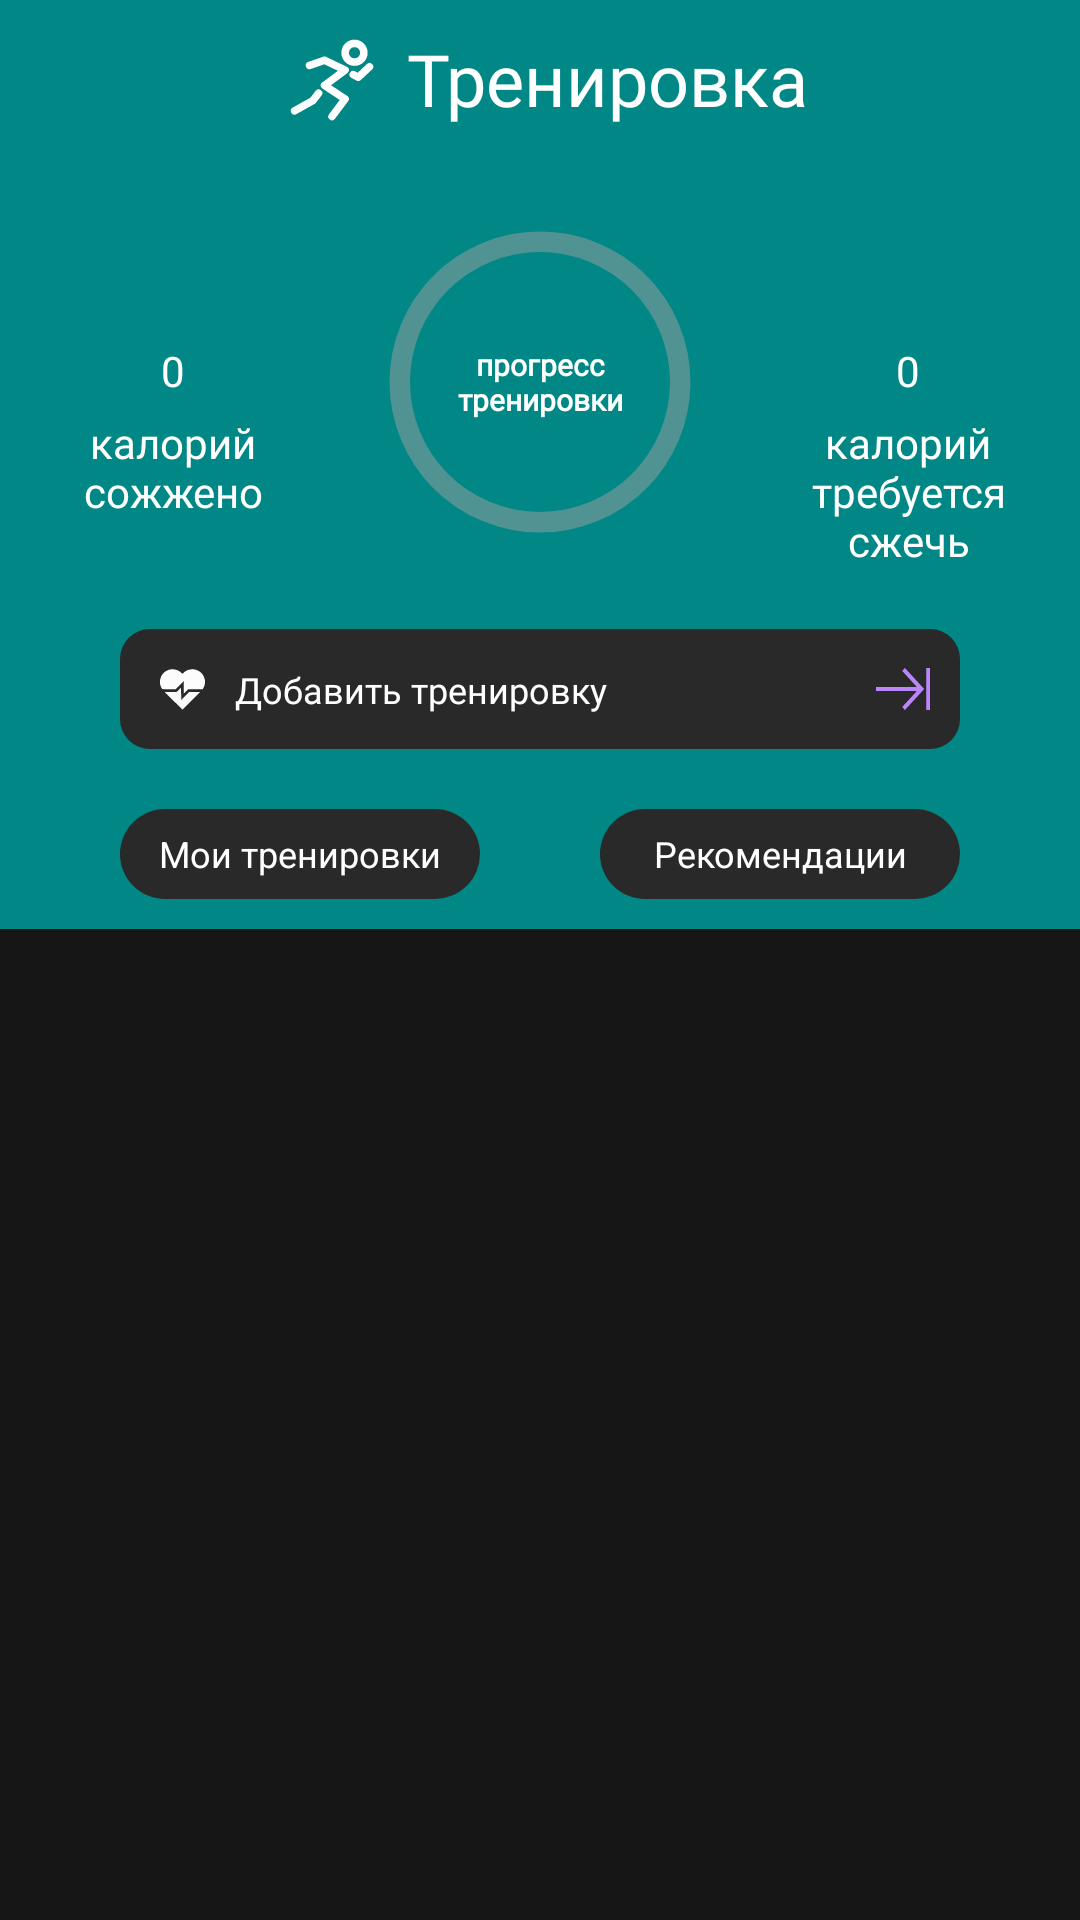

Icons on this 1080 x 1920 Android screen, each with the point to tap as (x,y):
cardio: (182,689)
training: (332,80)
